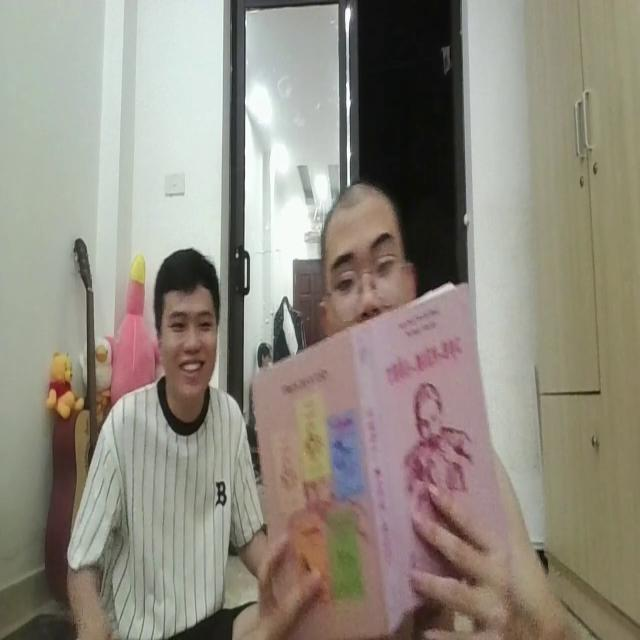book: (253, 289, 510, 622)
extra_person: (67, 252, 247, 640)
student: (320, 169, 410, 329)
